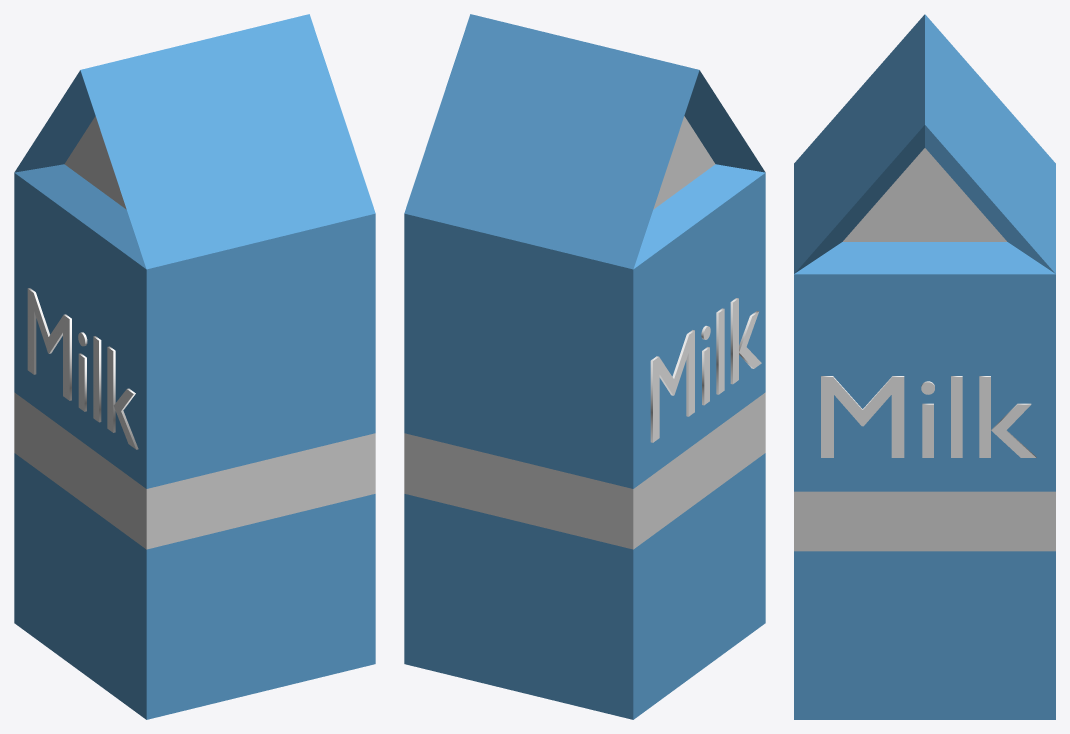
Rendered from Molk.fbx.
3 renders of one model, left to right at view 1: azimuth 30°, elevation 25°; view 2: azimuth 150°, elevation 25°; view 3: azimuth 270°, elevation 25°, orthographic.
Visible parts, largest first — view 1: Cube, Text.001; view 2: Cube, Text.001; view 3: Cube, Text.
Part boxes in pixels (box(x1,y1,x2,y2)): Cube: box(14, 14, 375, 719); Text.001: box(27, 288, 138, 449); Cube: box(404, 14, 765, 719); Text.001: box(650, 298, 761, 442); Cube: box(794, 14, 1055, 719); Text: box(821, 376, 1036, 457).
Size of the model in its own units: 204 by 502 by 200.
